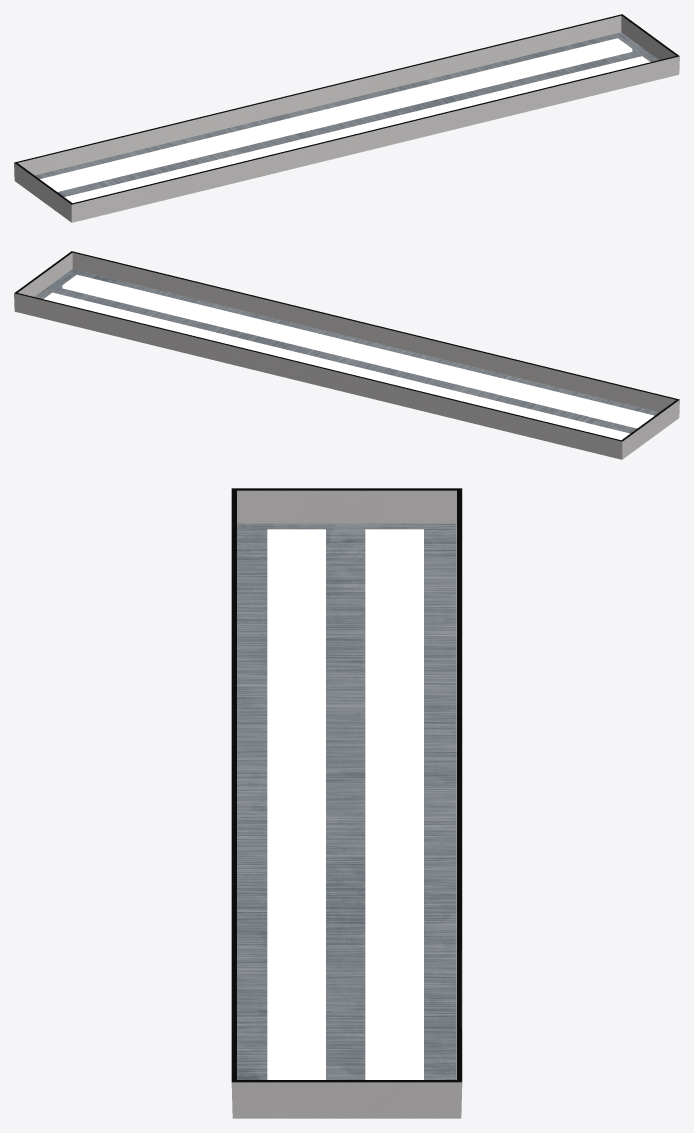
Rendered from Lamp.gltf.
3 renders of one model, top to bottom at view 1: azimuth 30°, elevation 25°; view 2: azimuth 150°, elevation 25°; view 3: azimuth 270°, elevation 25°, orthographic. The views are drawn at different scales.
Visible parts, largest first — view 1: Case, Lamp.001, Lamp; view 2: Case, Lamp, Lamp.001; view 3: Case, Lamp, Lamp.001.
Part boxes in pixels (box(x1,y1,x2,y2)): Case: box(14, 14, 679, 222); Lamp.001: box(40, 38, 632, 191); Lamp: box(64, 56, 650, 203); Case: box(14, 251, 679, 459); Lamp: box(62, 274, 654, 428); Lamp.001: box(43, 292, 629, 440); Case: box(231, 488, 462, 1118); Lamp: box(267, 529, 325, 1079); Lamp.001: box(365, 529, 423, 1079).
Bounding box in the file's own units: 3.86 × 0.1115 × 0.6337.
3 materials, 1 textured.
